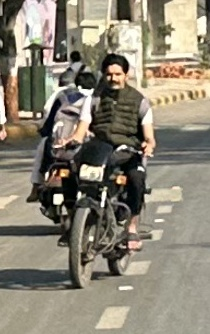BikeWithRider: (53, 49, 159, 292), (23, 60, 102, 236)
Helmet: (54, 68, 82, 92)
NoHelmet: (97, 50, 132, 92), (71, 67, 98, 95)
